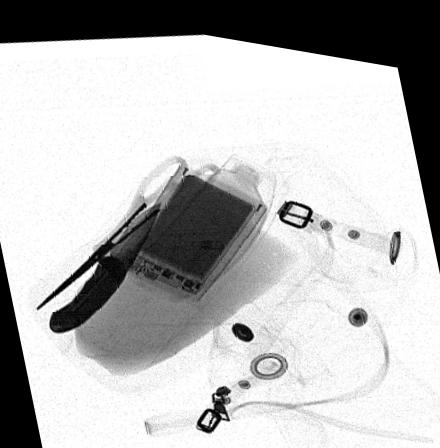Knife: (47, 194, 163, 330)
Powerbank: (111, 160, 268, 297)
Scissors: (28, 147, 222, 313)
